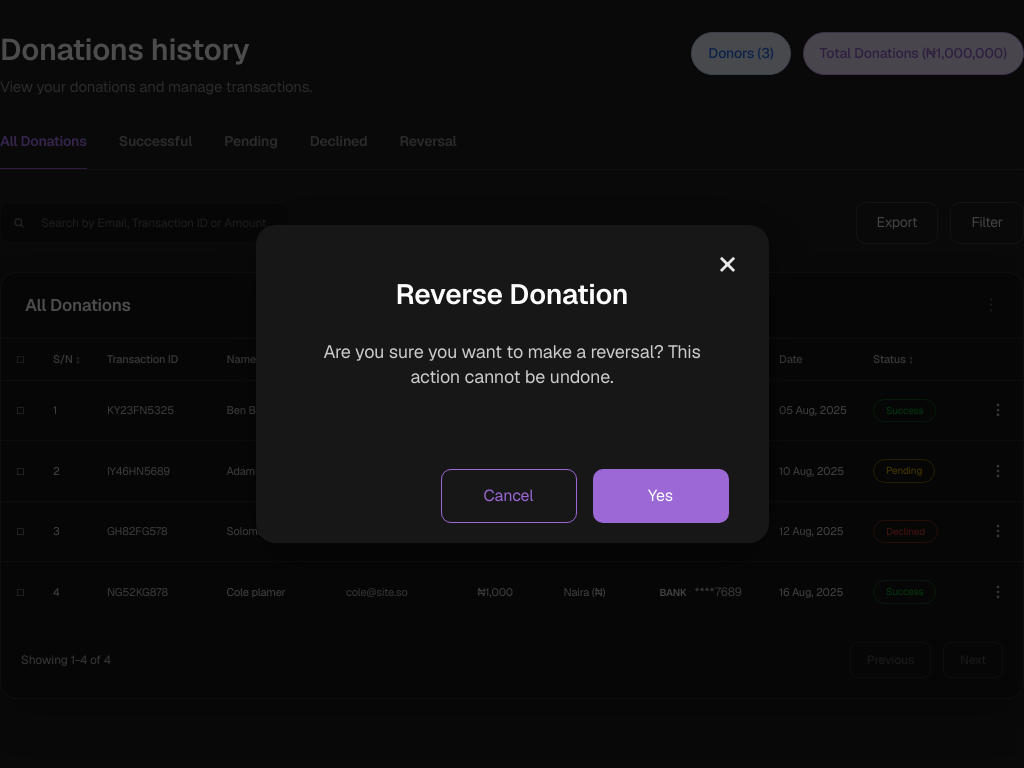
Test: DonationsPage › closes route-opened reverse modal without router navigation
Click the button with aria-label "Cancel reverse donation" at (508, 496), box [440,469,576,523]
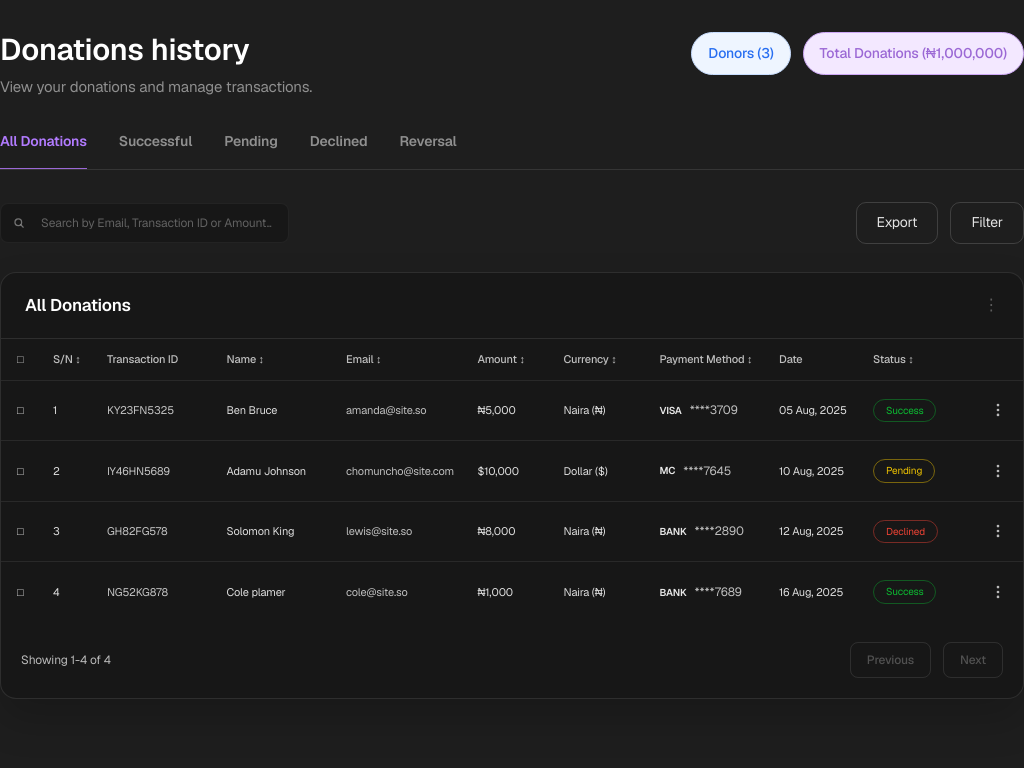
Expected: the heading "Reverse Donation" is gone
